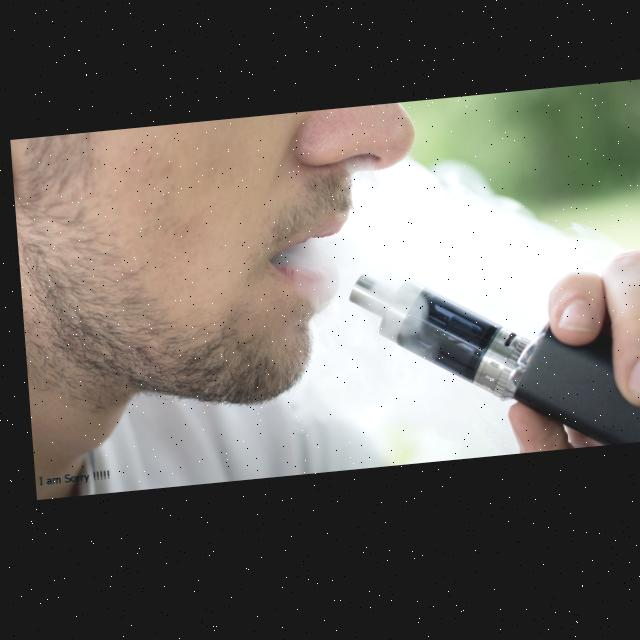vape: (341, 256, 640, 476)
